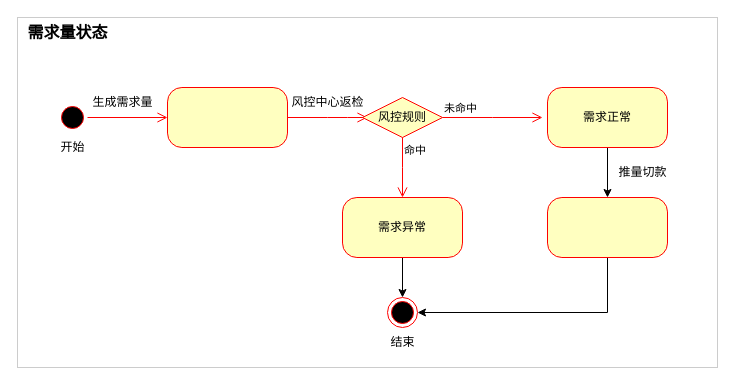
The diagram is 735 pixels wide and 385 high, and some of its shapes have lost their labels. Each missing label, with the centre of its shape:
完成推量: the point at 607,227
需求待校验: the point at 227,117
